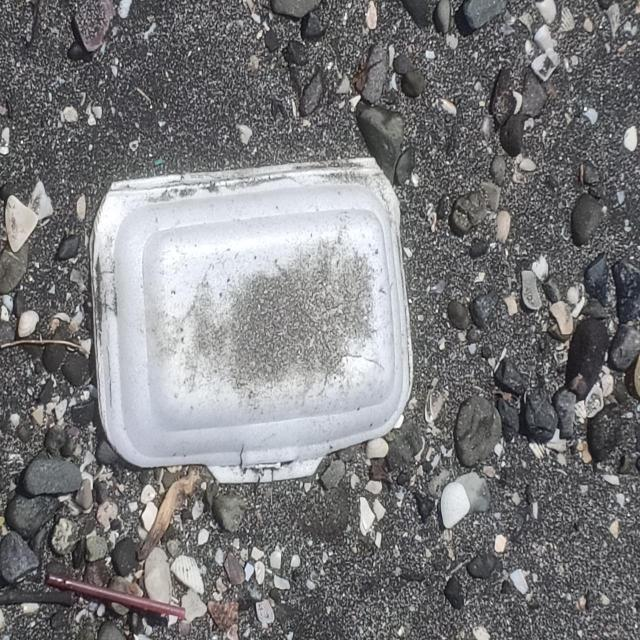styrofoam_waste: (88, 159, 416, 487)
